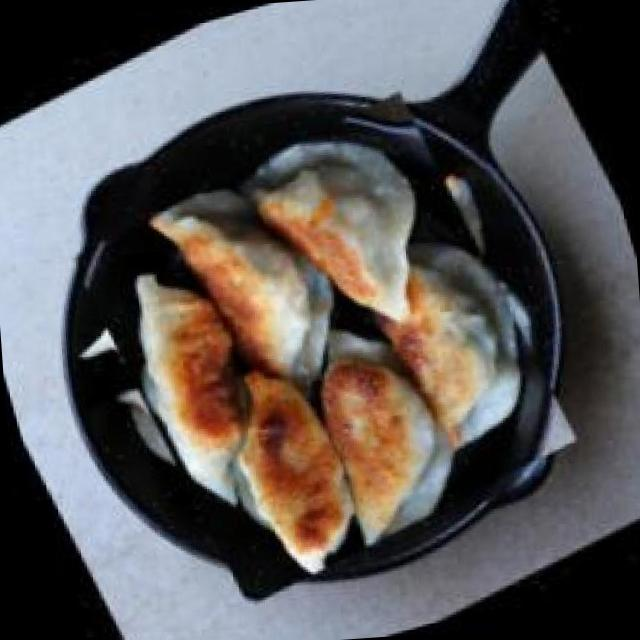fried_dumplings: (41, 64, 605, 630)
